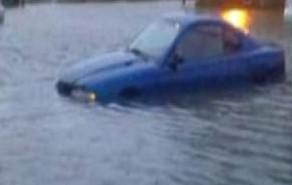water: (0, 0, 291, 184), (194, 0, 279, 16)
